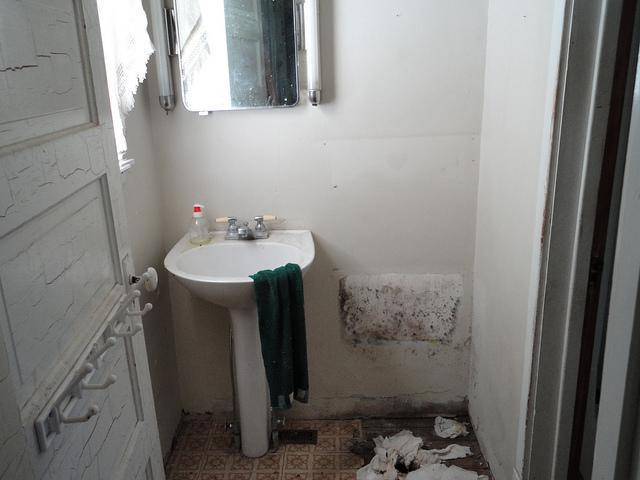Lavamanos: (170, 218, 316, 299)
